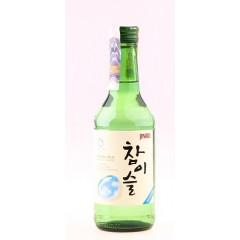soju: (90, 24, 157, 235)
